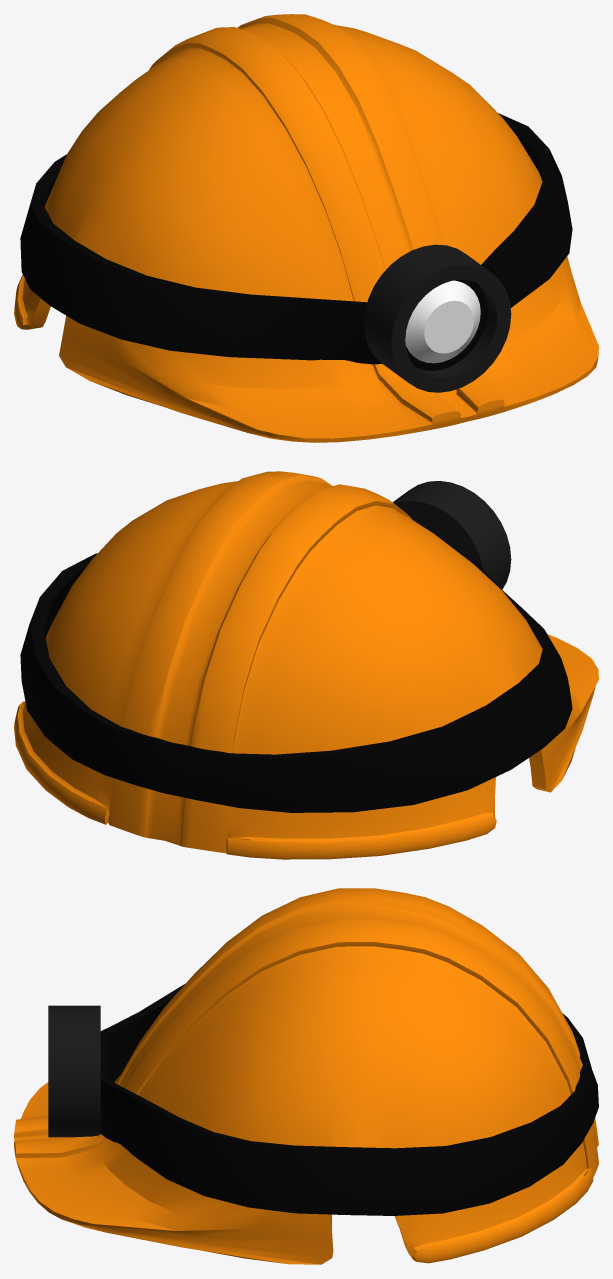
File: hat.glb
3 renders of one model, top to bottom at view 1: azimuth 30°, elevation 25°; view 2: azimuth 150°, elevation 25°; view 3: azimuth 270°, elevation 25°, orthographic. The views are drawn at different scales.
Visible parts, largest first — view 1: MinerHat__1_.1; view 2: MinerHat__1_.1; view 3: MinerHat__1_.1.
Part boxes in pixels (<box>): MinerHat__1_.1: <box>14,14,598,442</box>; MinerHat__1_.1: <box>14,471,598,859</box>; MinerHat__1_.1: <box>14,888,598,1264</box>.
Bounding box in the file's own units: 26.97 × 13.48 × 28.94.
